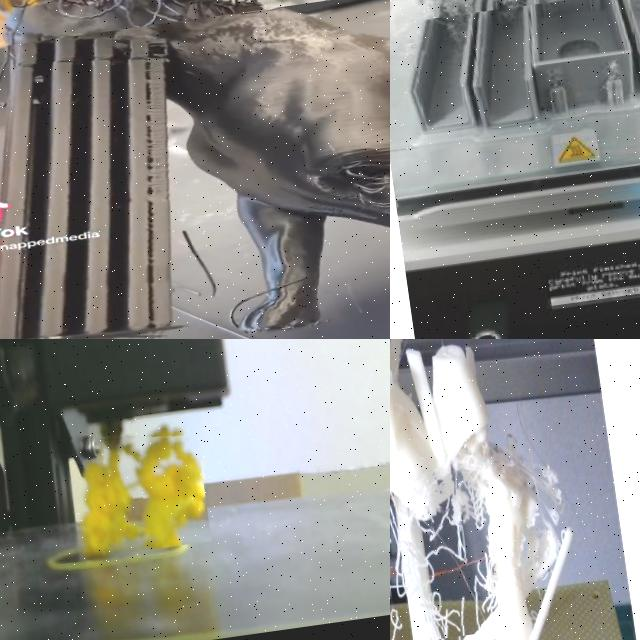spaghetti: (0, 0, 390, 47), (84, 434, 205, 558), (412, 499, 502, 640), (528, 451, 575, 524)
